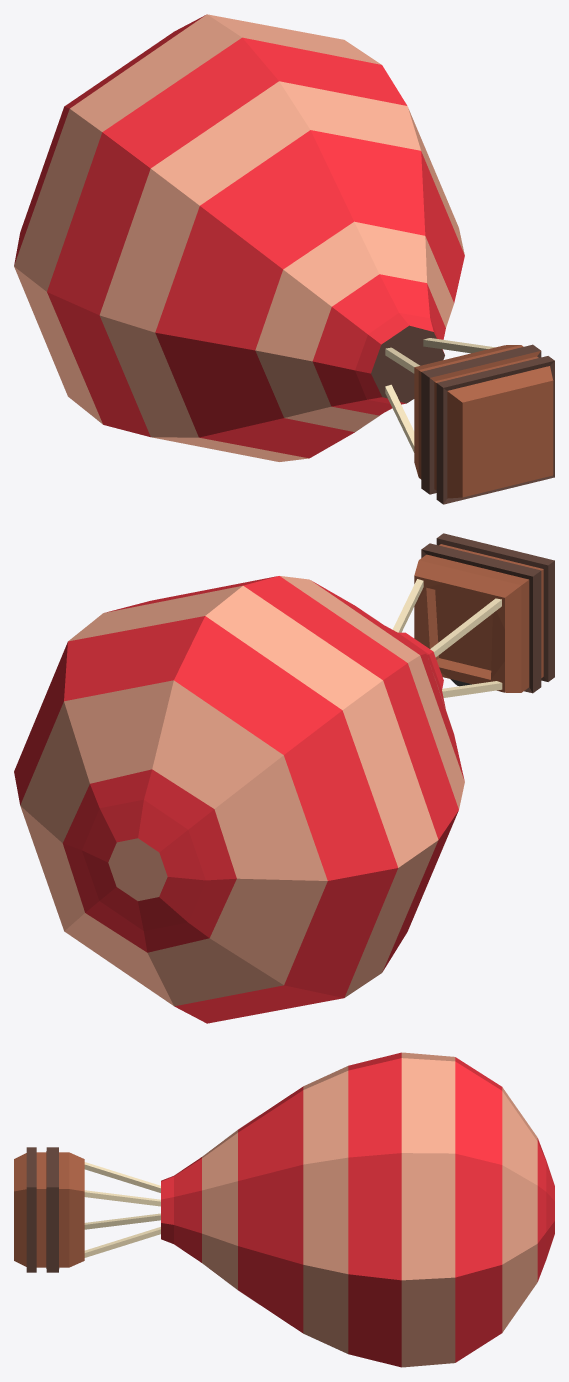
File: baloon.fbx
3 renders of one model, top to bottom at view 1: azimuth 30°, elevation 25°; view 2: azimuth 150°, elevation 25°; view 3: azimuth 270°, elevation 25°, orthographic. The views are drawn at different scales.
Parts seen in each view (by area): view 1: Baloon; view 2: Baloon; view 3: Baloon.
Part boxes in pixels (x1,y1,x2,y2): Baloon: [14, 14, 554, 504]; Baloon: [14, 533, 554, 1023]; Baloon: [14, 1052, 554, 1367].
Size of the model in its own units: 890 by 901 by 1456.
